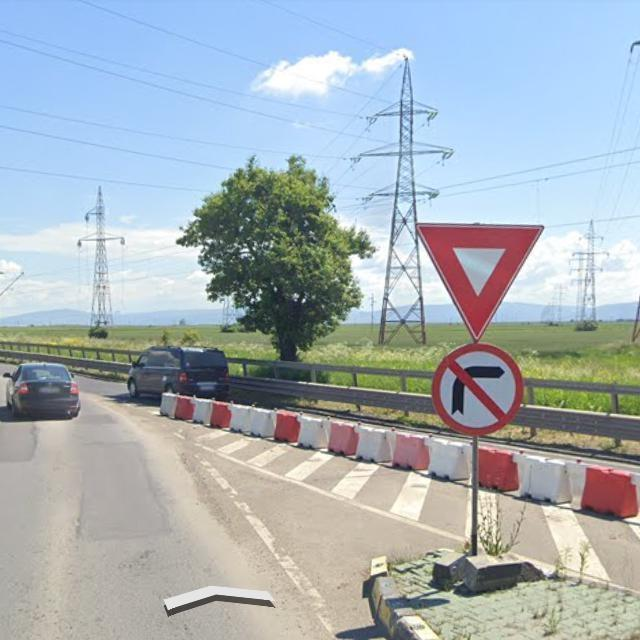prio_give_way: (412, 223, 543, 344)
